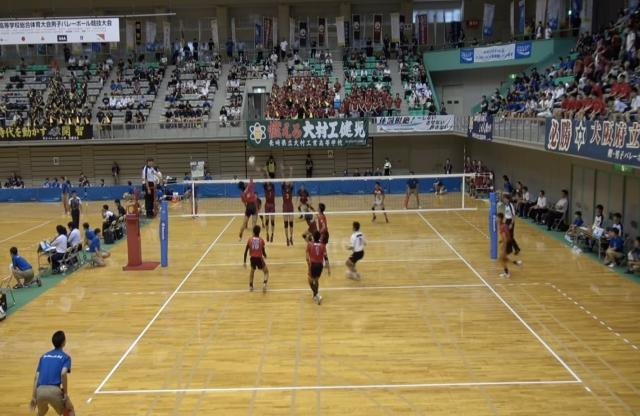spike: (233, 154, 266, 244)
